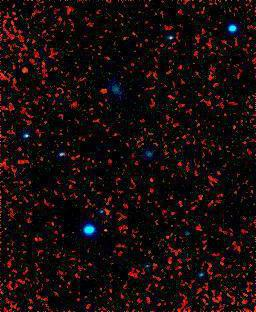star: (11, 54, 41, 84)
